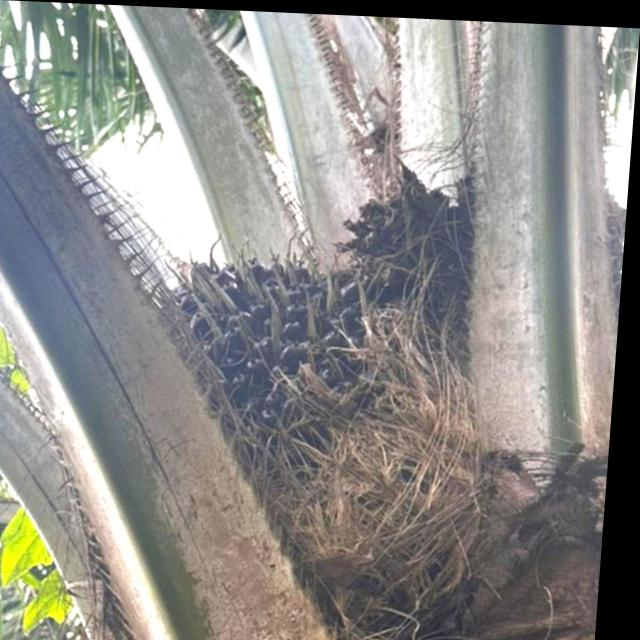almost: (159, 235, 489, 521)
